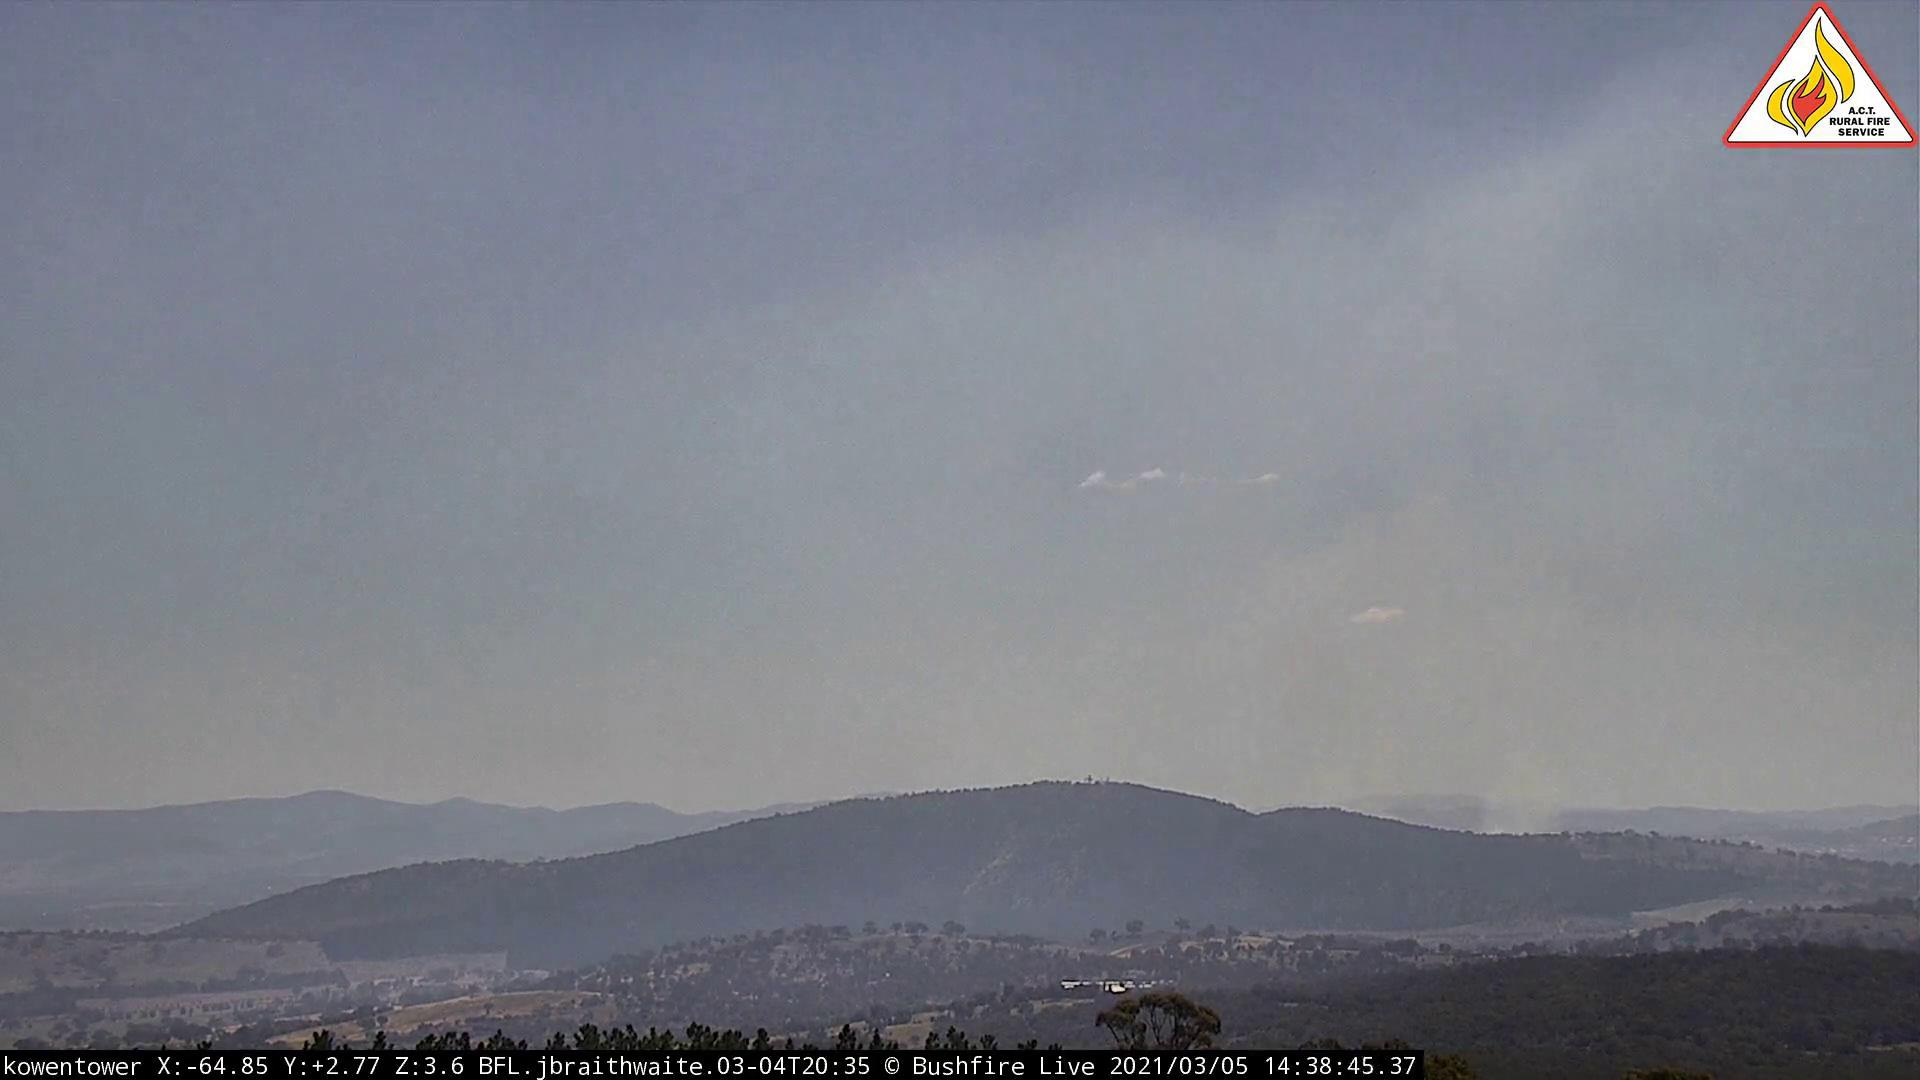Smoke: (1262, 492, 1662, 839)
